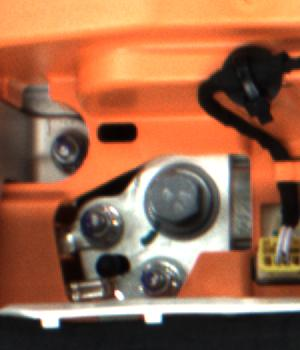nut_b: (138, 160, 218, 234)
screw_s: (80, 204, 121, 242), (141, 257, 173, 298), (46, 133, 78, 167)
